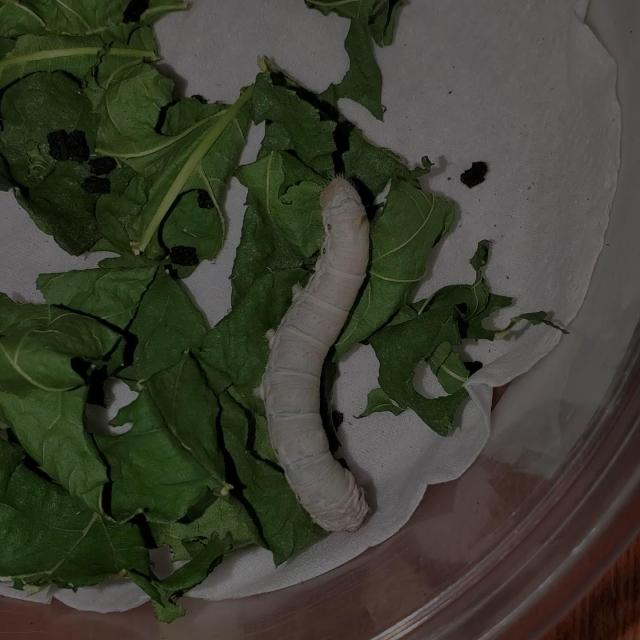Healthy: (234, 153, 446, 585)
